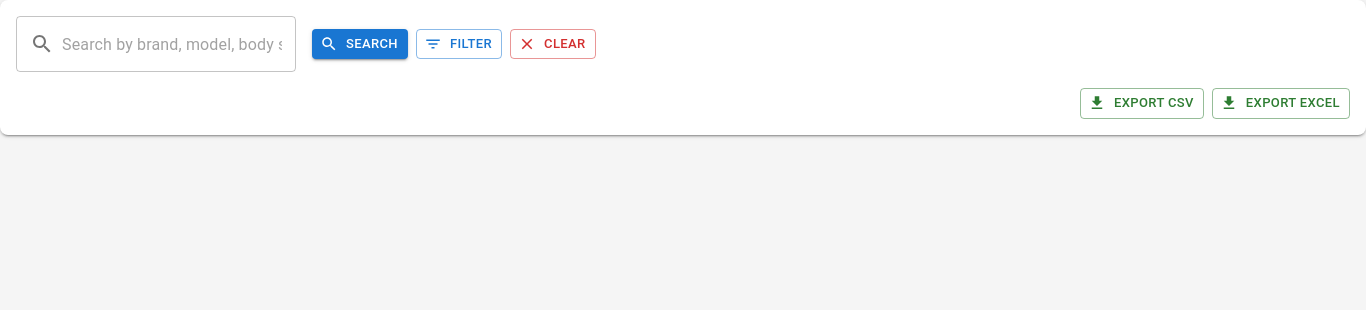
Test: DataGridToolbar › when user applies filters › should add new filter when clicking add button
Click the button "Filter": (459, 44) [416, 29, 502, 59]
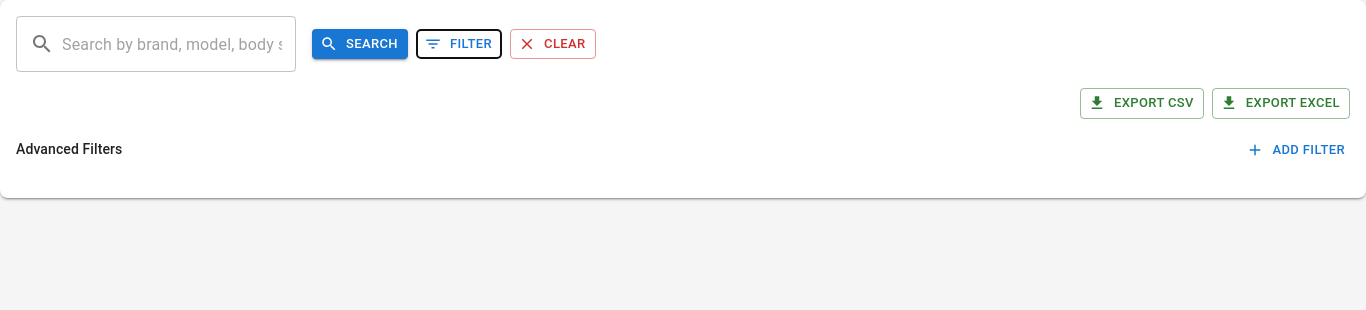
Click the button "Add Filter": (1297, 150) [1244, 135, 1350, 166]
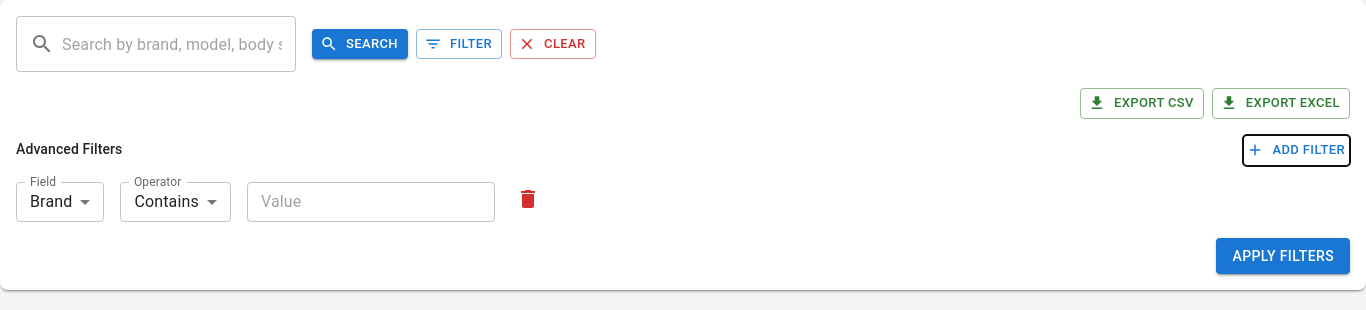
Result: the text "Field" is shown at [30, 172, 56, 190]
